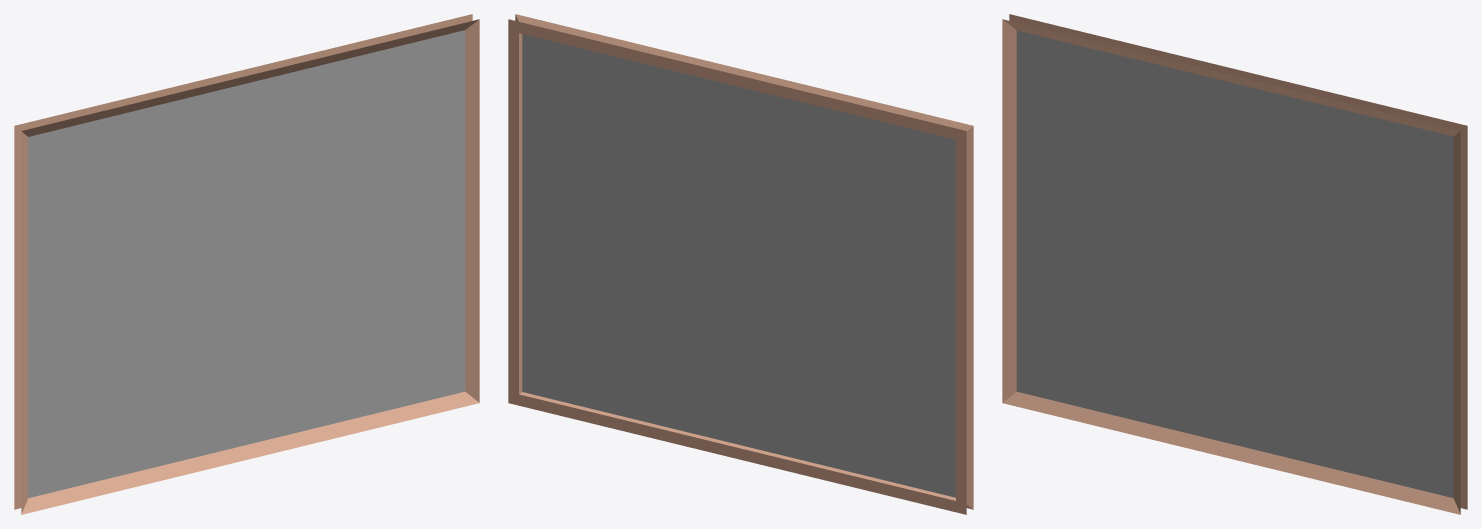
File: env_window_small_ver.fbx
3 views of the same model, side by side, from view 1: azimuth 30°, elevation 25°; view 2: azimuth 150°, elevation 25°; view 3: azimuth 330°, elevation 25° (orthographic).
Visible parts, largest first — view 1: Casa ventana 2m; view 2: Casa ventana 2m; view 3: Casa ventana 2m.
Boxes of the visible parts, x1=… form: Casa ventana 2m: x1=14, y1=14, x2=479, y2=514; Casa ventana 2m: x1=508, y1=14, x2=973, y2=514; Casa ventana 2m: x1=1002, y1=14, x2=1467, y2=514.
Size of the model in its own units: 150 by 120 by 4.
Materials: 2 (1 with a texture image).
